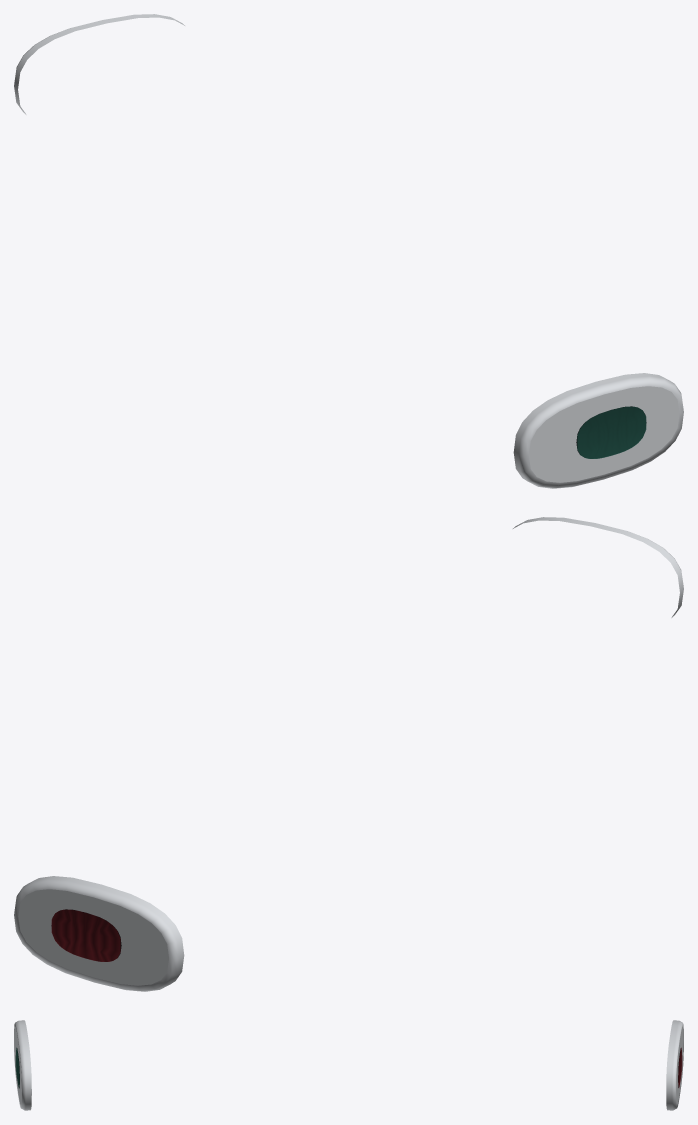
3 renders of one model, top to bottom at view 1: azimuth 30°, elevation 25°; view 2: azimuth 150°, elevation 25°; view 3: azimuth 270°, elevation 25°, orthographic. The views are drawn at different scales.
Visible parts, largest first — view 1: xs_el3_navlight_stbd_420s, xs_el3_navlight_port_420s; view 2: xs_el3_navlight_port_420s, xs_el3_navlight_stbd_420s; view 3: xs_el3_navlight_port_420s, xs_el3_navlight_stbd_420s.
Boxes of the visible parts, <box> form: xs_el3_navlight_stbd_420s: <box>513,373,683,488</box>; xs_el3_navlight_port_420s: <box>14,14,184,114</box>; xs_el3_navlight_port_420s: <box>14,876,184,991</box>; xs_el3_navlight_stbd_420s: <box>513,517,683,617</box>; xs_el3_navlight_port_420s: <box>666,1020,683,1110</box>; xs_el3_navlight_stbd_420s: <box>14,1020,31,1110</box>.
Size of the model in its own units: 0.0941 by 0.05 by 0.4845.
